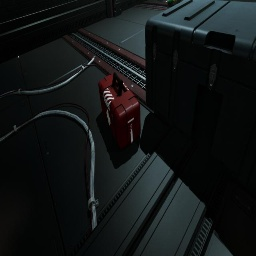0: (165, 0, 181, 6)
FirstAidBox ,: (98, 72, 141, 149)
